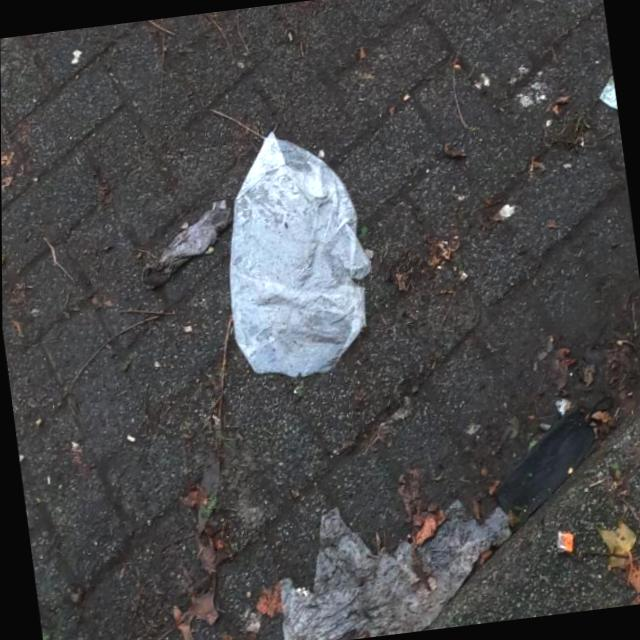Mask: (476, 391, 632, 539)
Paper: (205, 119, 385, 385)
